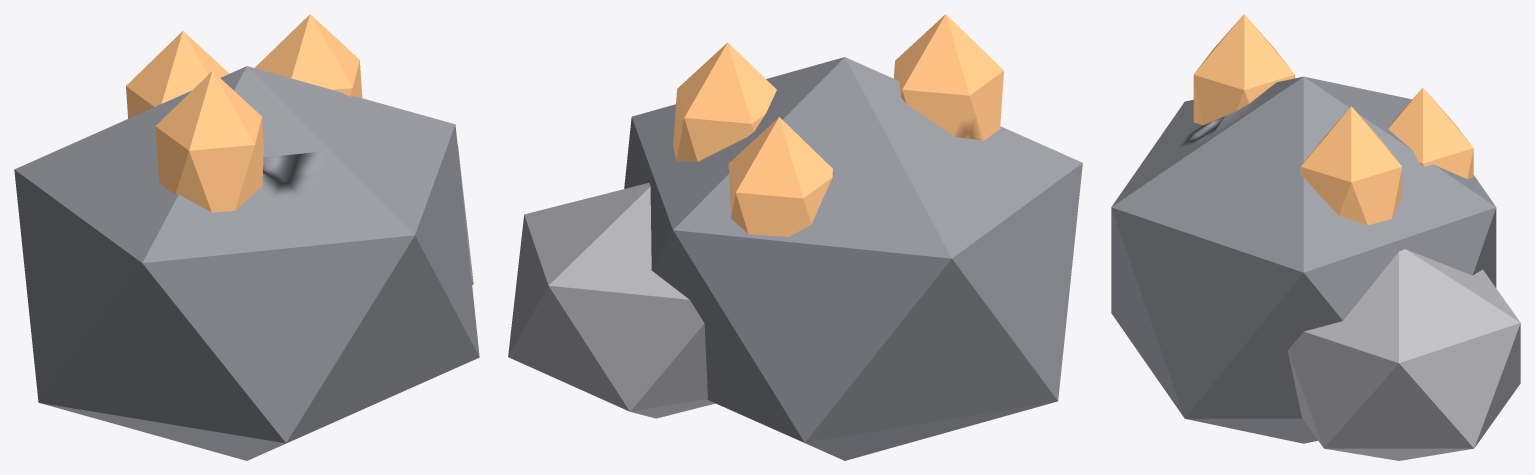
File: iron_node.glb
3 views of the same model, side by side, from view 1: azimuth 30°, elevation 25°; view 2: azimuth 150°, elevation 25°; view 3: azimuth 270°, elevation 25° (orthographic). The views are drawn at different scales.
Parts seen in each view (by area): view 1: IronNodeRock; view 2: IronNodeRock; view 3: IronNodeRock.
Boxes of the visible parts, box(x1,y1,x2,y2) form: IronNodeRock: box(14, 14, 479, 460); IronNodeRock: box(508, 14, 1082, 460); IronNodeRock: box(1111, 14, 1520, 460).
Bounding box in the file's own units: 0.8482 × 0.74 × 0.6874.
